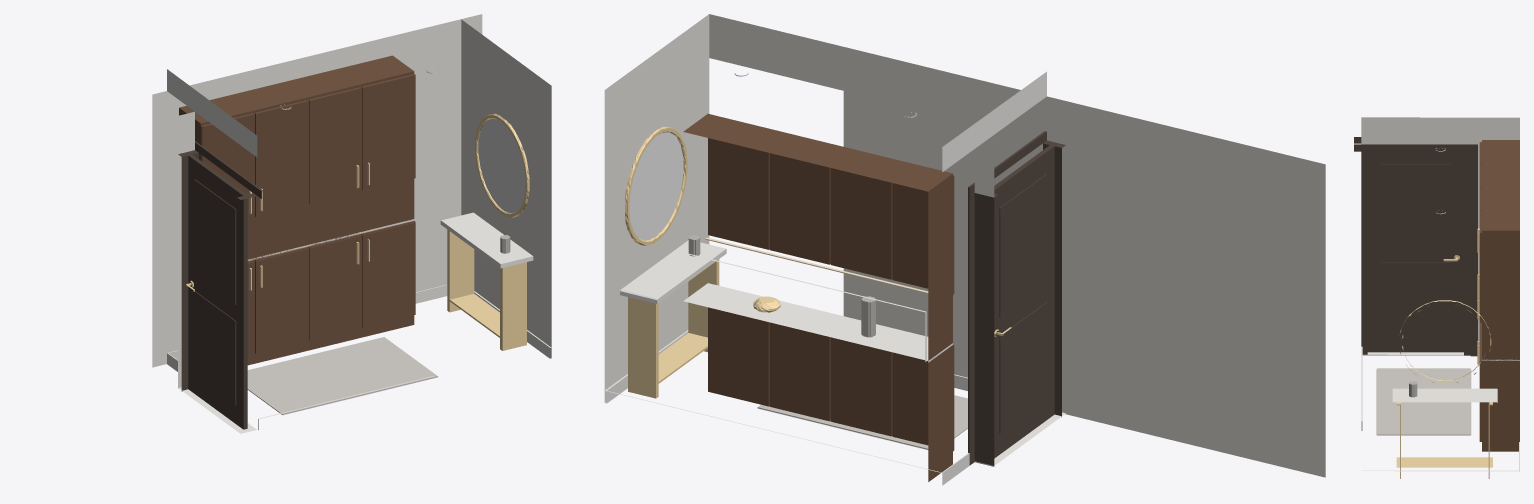
The model's file is ENTRY.glb.
3 views of the same model, side by side, from view 1: azimuth 30°, elevation 25°; view 2: azimuth 150°, elevation 25°; view 3: azimuth 270°, elevation 25° (orthographic). The views are drawn at different scales.
Parts seen in each view (by area): view 1: WEB_ENTRY; view 2: WEB_ENTRY; view 3: WEB_ENTRY.
Part boxes in pixels (left/top/right/bottom): WEB_ENTRY: left=152, top=14, right=551, bottom=433; WEB_ENTRY: left=604, top=14, right=1325, bottom=485; WEB_ENTRY: left=1354, top=117, right=1519, bottom=478.
Size of the model in its own units: 5.36 by 2.7 by 1.58.
